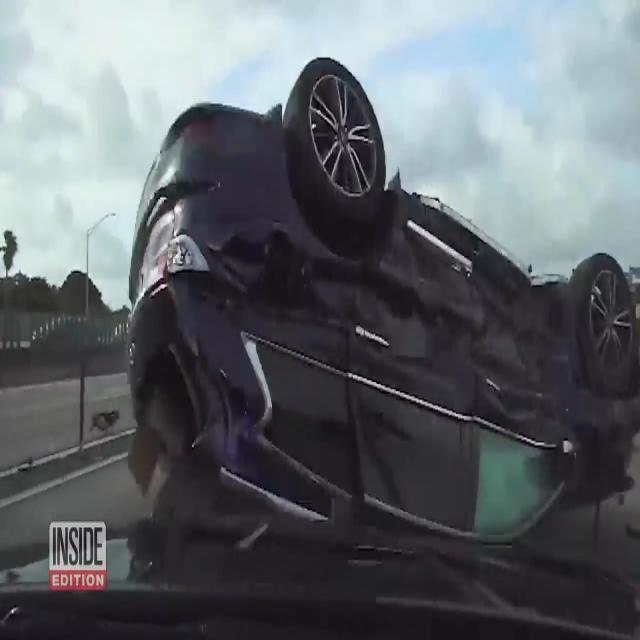accident: (123, 53, 640, 546)
